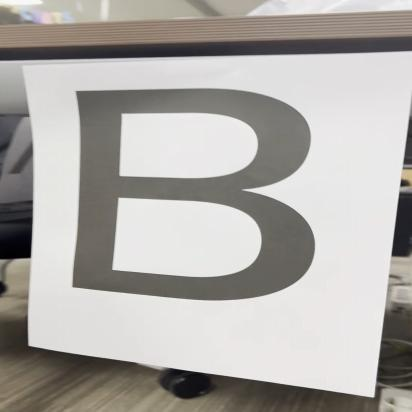seat: (60, 81, 334, 308)
